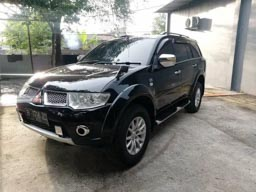plat: (26, 111, 47, 126)
